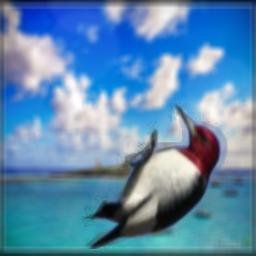Woodpecker: (82, 103, 228, 249)
